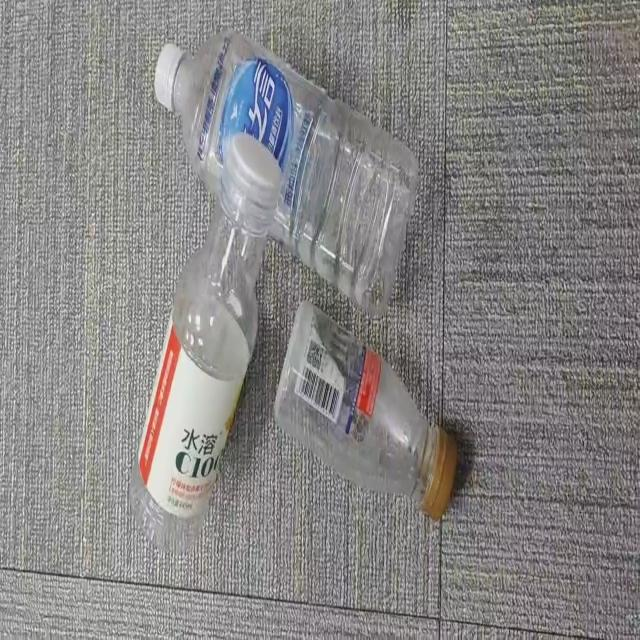bottle: (155, 32, 420, 314), (129, 130, 283, 555), (274, 301, 456, 518)
